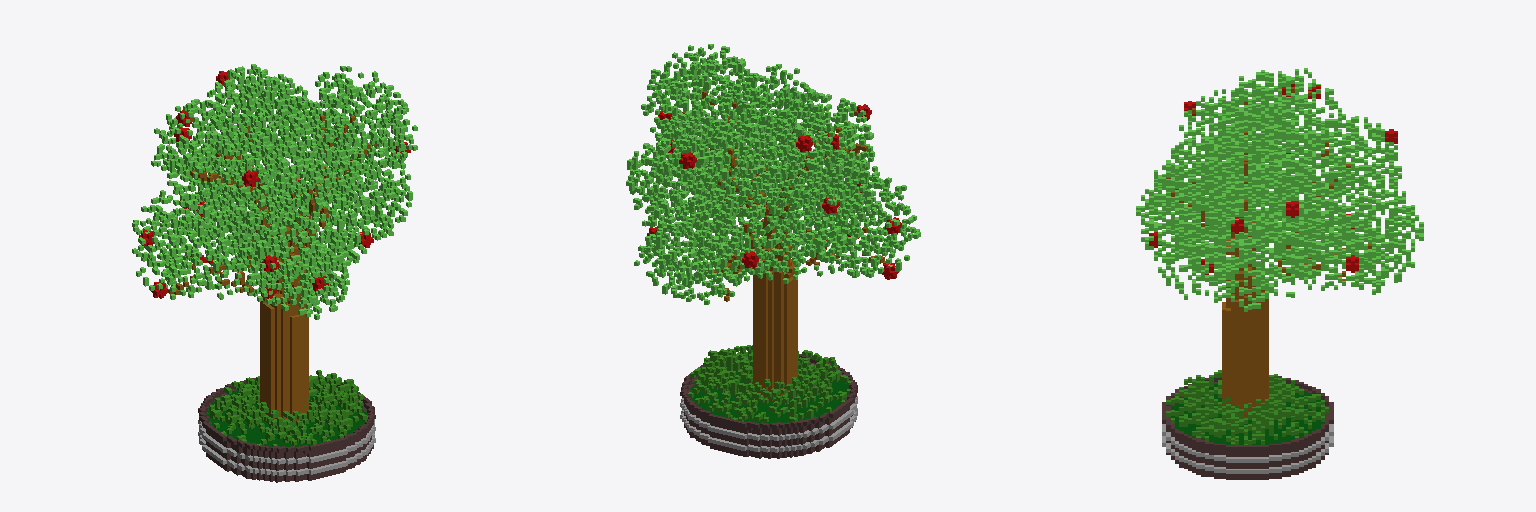
3 views of the same model, side by side, from view 1: azimuth 30°, elevation 25°; view 2: azimuth 150°, elevation 25°; view 3: azimuth 270°, elevation 25° (orthographic).
Parts seen in each view (by area): view 1: circulo_para_arbol_3, circulo_para_arbol_2; view 2: circulo_para_arbol_3, circulo_para_arbol_2; view 3: circulo_para_arbol_3, circulo_para_arbol_2.
Boxes of the visible parts, x1,y1,x2,y2 form: circulo_para_arbol_3: [132, 64, 417, 426]; circulo_para_arbol_2: [198, 370, 375, 482]; circulo_para_arbol_3: [626, 44, 920, 400]; circulo_para_arbol_2: [680, 345, 857, 458]; circulo_para_arbol_3: [1136, 68, 1423, 419]; circulo_para_arbol_2: [1162, 370, 1333, 479].
Bounding box in the file's own units: 7.2 × 9.4 × 6.7.
Materials: 1 (1 with a texture image).